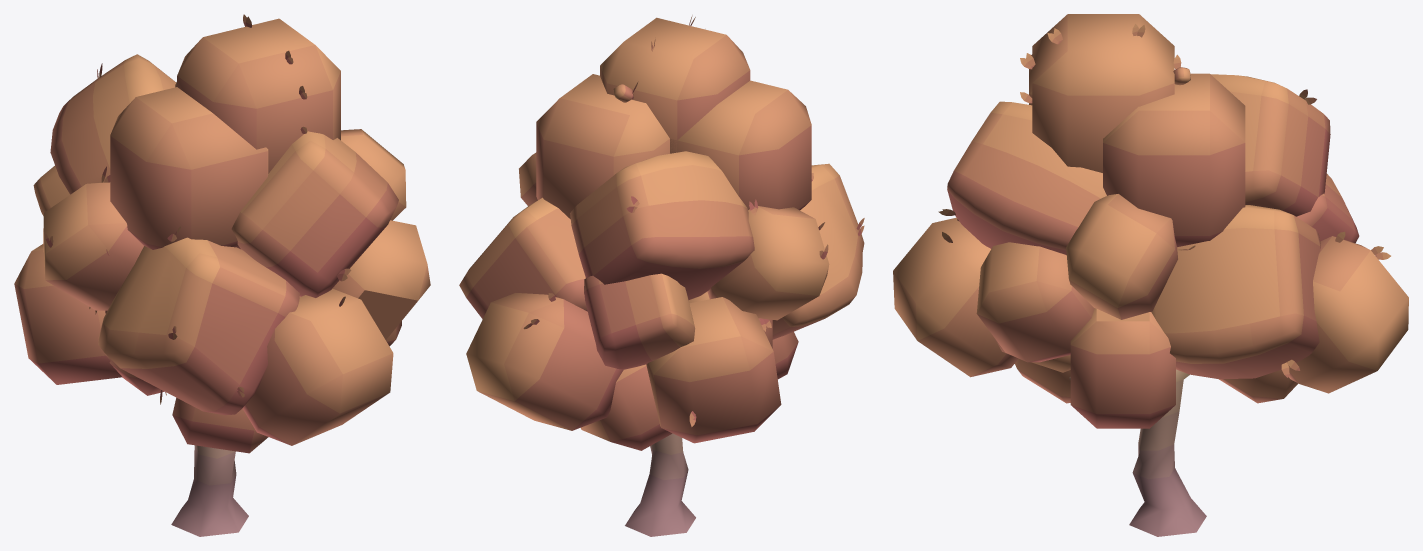
The model's file is maple_tree.glb.
3 renders of one model, left to right at view 1: azimuth 30°, elevation 25°; view 2: azimuth 150°, elevation 25°; view 3: azimuth 270°, elevation 25°, orthographic. The views are drawn at different scales.
Visible parts, largest first — view 1: Maple_Tree.001; view 2: Maple_Tree.001; view 3: Maple_Tree.001.
Part boxes in pixels (left/top/right/bottom): Maple_Tree.001: left=14, top=14, right=430, bottom=536; Maple_Tree.001: left=459, top=15, right=864, bottom=536; Maple_Tree.001: left=893, top=14, right=1408, bottom=536.
Size of the model in its own units: 5.49 by 7.7 by 7.09.
